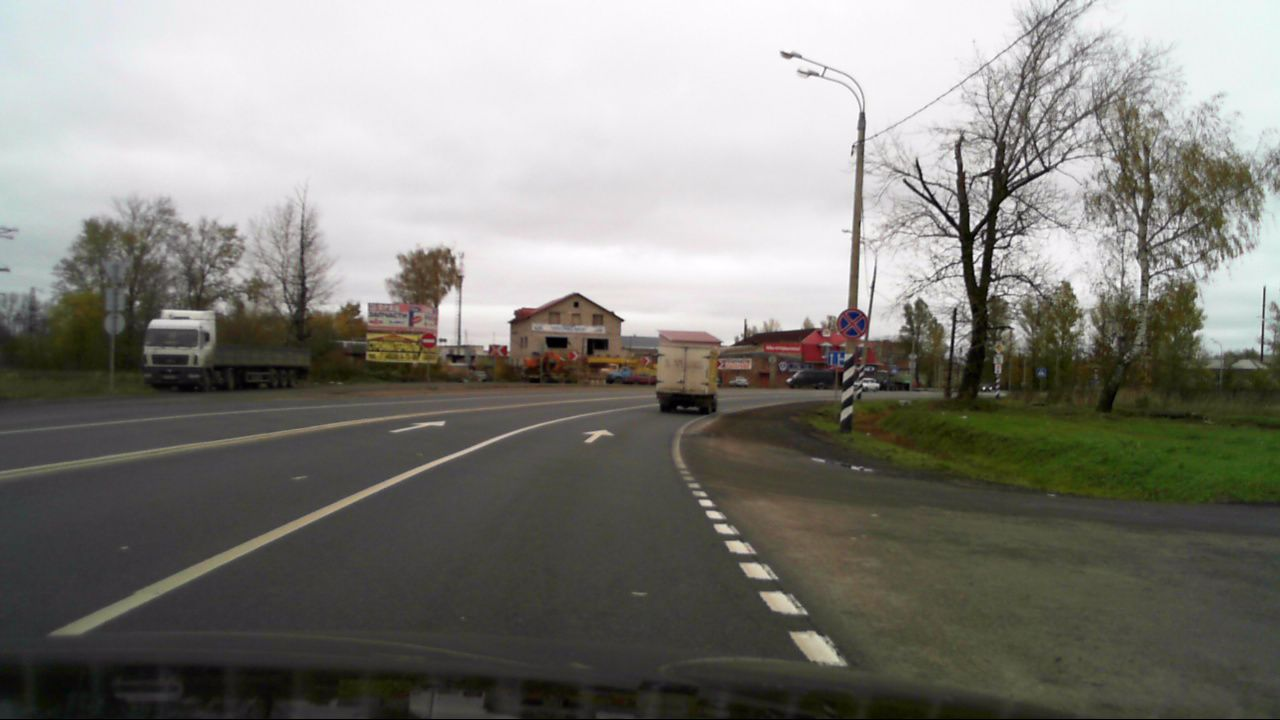No Parking: (836, 307, 868, 340)
